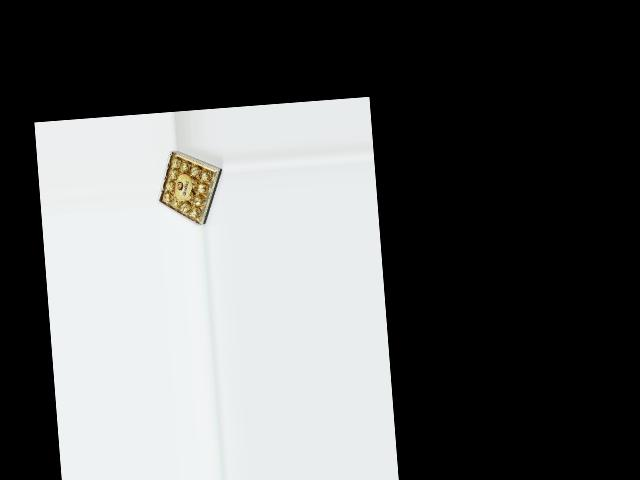chocolate: (153, 146, 227, 229)
